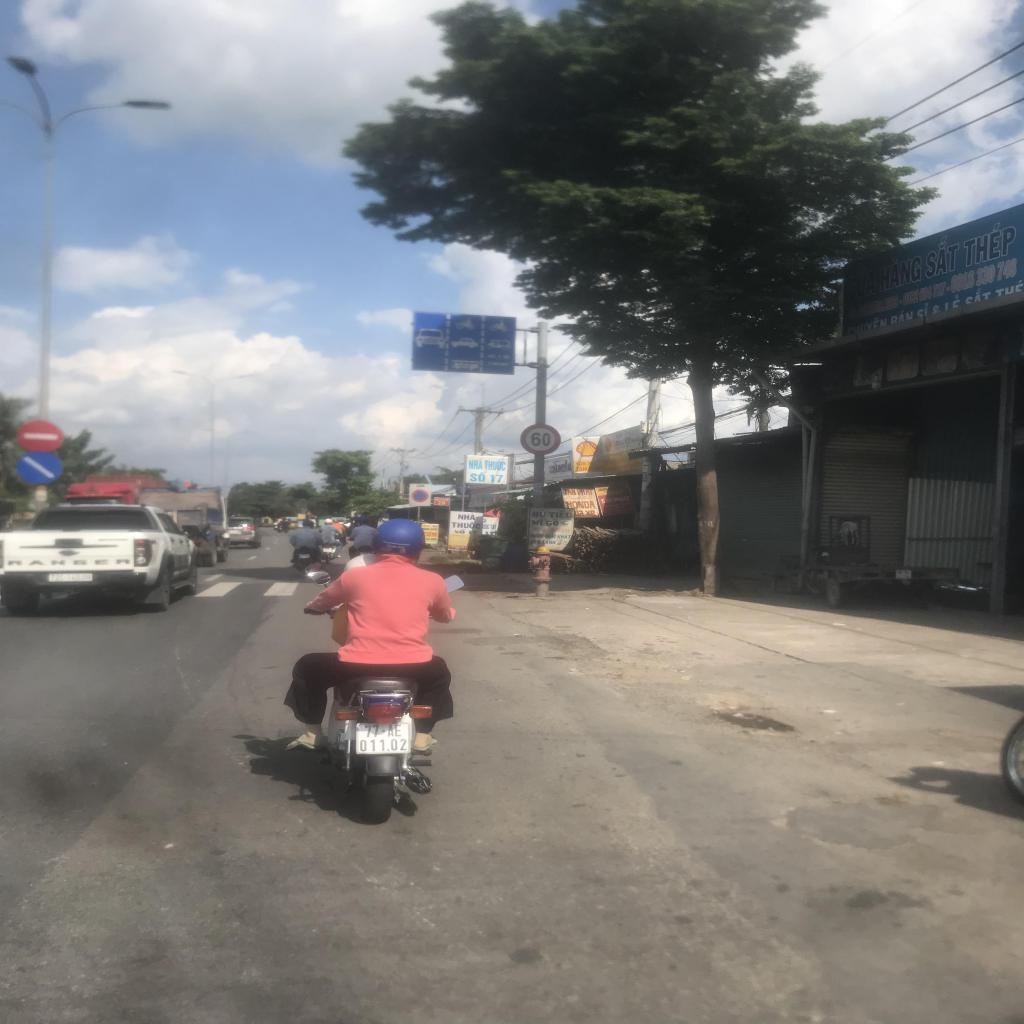cam_do_xe: (411, 489, 429, 503)
cam_xe_di_nguoc_chieu: (18, 422, 64, 451)
huong_phai_di_vuot_chuong_ngai_vat_phai: (17, 451, 62, 486)
lan_duong_cho_tung_xe_theo_vach_ke_duong: (410, 312, 516, 374)
toc_do_toi_da_60: (520, 423, 562, 456)
